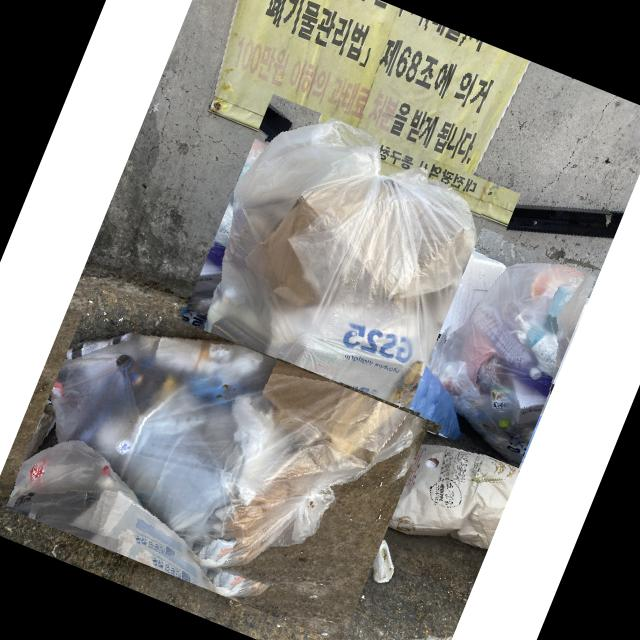other_trashbag: (182, 118, 482, 422), (51, 333, 420, 572), (431, 263, 586, 465), (462, 494, 465, 497)
